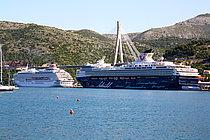Ship: (75, 55, 205, 93), (9, 58, 78, 90)
